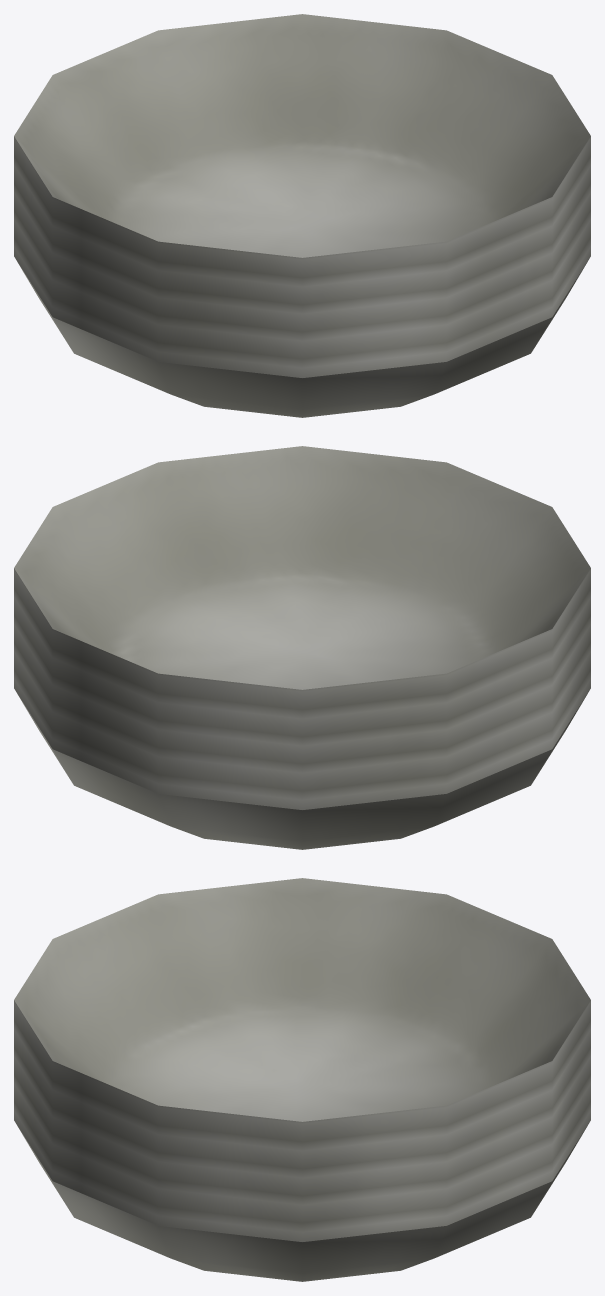
File: jsf_Tray_12_Set.fbx
3 renders of one model, top to bottom at view 1: azimuth 30°, elevation 25°; view 2: azimuth 150°, elevation 25°; view 3: azimuth 270°, elevation 25°, orthographic.
Visible parts, largest first — view 1: jsf_Tray_12_Set; view 2: jsf_Tray_12_Set; view 3: jsf_Tray_12_Set.
Part boxes in pixels (<box>): jsf_Tray_12_Set: <box>14,14,590,417</box>; jsf_Tray_12_Set: <box>14,446,590,849</box>; jsf_Tray_12_Set: <box>14,878,590,1281</box>.
Size of the model in its own units: 10 by 3.8 by 10.
